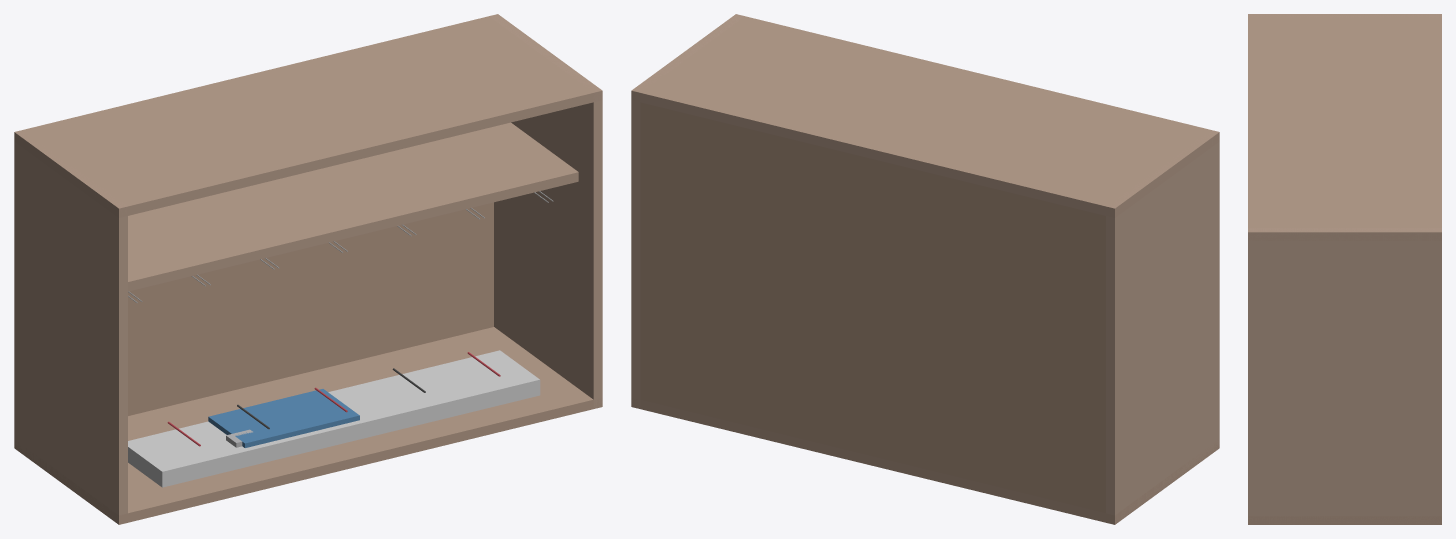
Rendered from laser_harp_model.glb.
3 renders of one model, left to right at view 1: azimuth 30°, elevation 25°; view 2: azimuth 150°, elevation 25°; view 3: azimuth 270°, elevation 25°, orthographic. The views are drawn at different scales.
Parts seen in each view (by area): view 1: cardboard_1, cardboard_4, cardboard_2, cardboard_5, cardboard_0, cardboard_3, breadboard, arduino; view 2: cardboard_4, cardboard_1, cardboard_2, cardboard_0, cardboard_3; view 3: cardboard_3, cardboard_1, cardboard_0.
Part boxes in pixels (bbox=[...]): cardboard_1: bbox=[14, 14, 602, 217]; cardboard_4: bbox=[128, 202, 493, 415]; cardboard_2: bbox=[14, 132, 127, 523]; cardboard_5: bbox=[128, 122, 578, 291]; cardboard_0: bbox=[14, 327, 602, 524]; cardboard_3: bbox=[490, 14, 602, 408]; breadboard: bbox=[128, 350, 540, 487]; arduino: bbox=[208, 389, 359, 447]; cardboard_4: bbox=[640, 102, 1105, 513]; cardboard_1: bbox=[631, 14, 1219, 217]; cardboard_2: bbox=[1106, 131, 1219, 524]; cardboard_0: bbox=[631, 398, 1219, 524]; cardboard_3: bbox=[631, 14, 743, 408]; cardboard_3: bbox=[1248, 228, 1441, 524]; cardboard_1: bbox=[1248, 14, 1441, 240]; cardboard_0: bbox=[1248, 516, 1441, 524].
Size of the model in its own units: 16 by 10 by 6.
